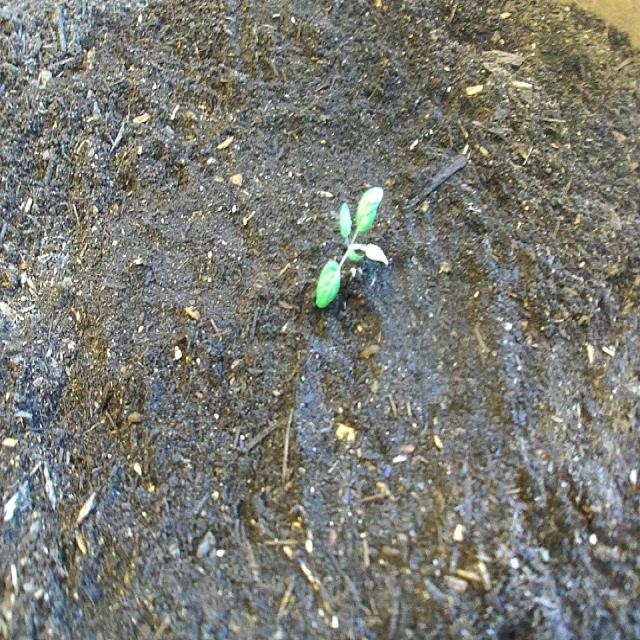Healthy: (310, 165, 400, 317)
